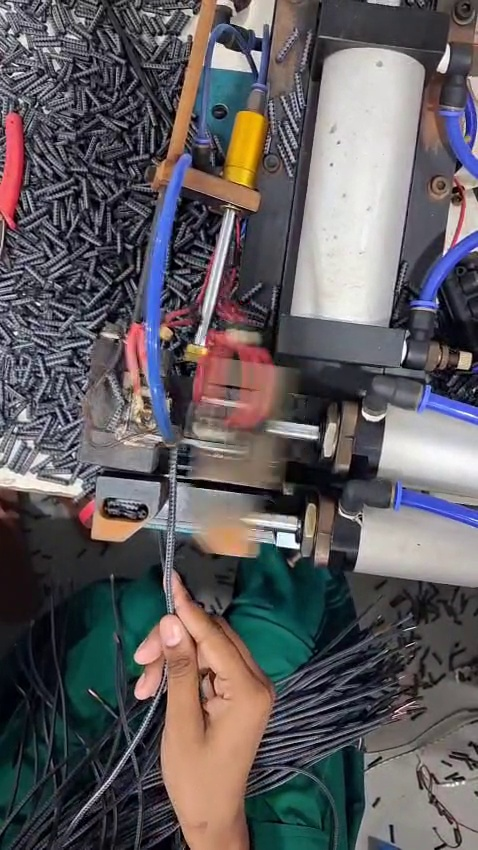intact_wire: (150, 420, 208, 515)
machine: (77, 323, 307, 547)
